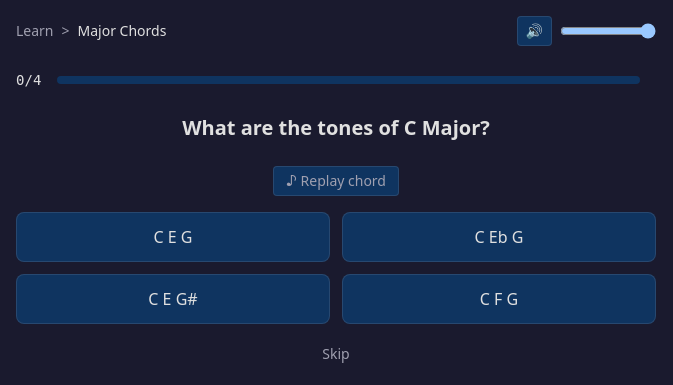
FlashcardSession › skips card without counting as wrong
Click the button with test id "skip-button" at (336, 354), box [314,340,358,368]
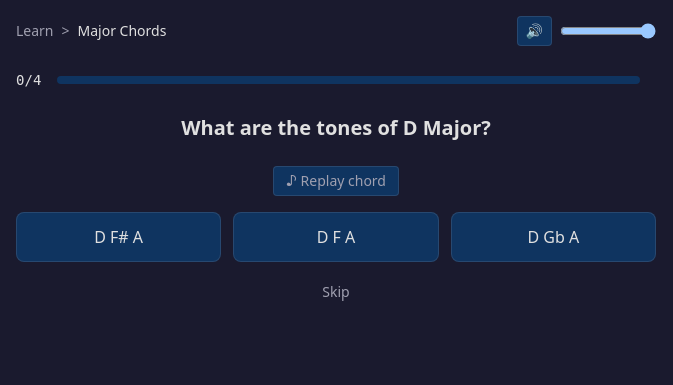
Now the heading with test id "question-text" reads "What are the tones of D Major?", box [181,114,491,141]
